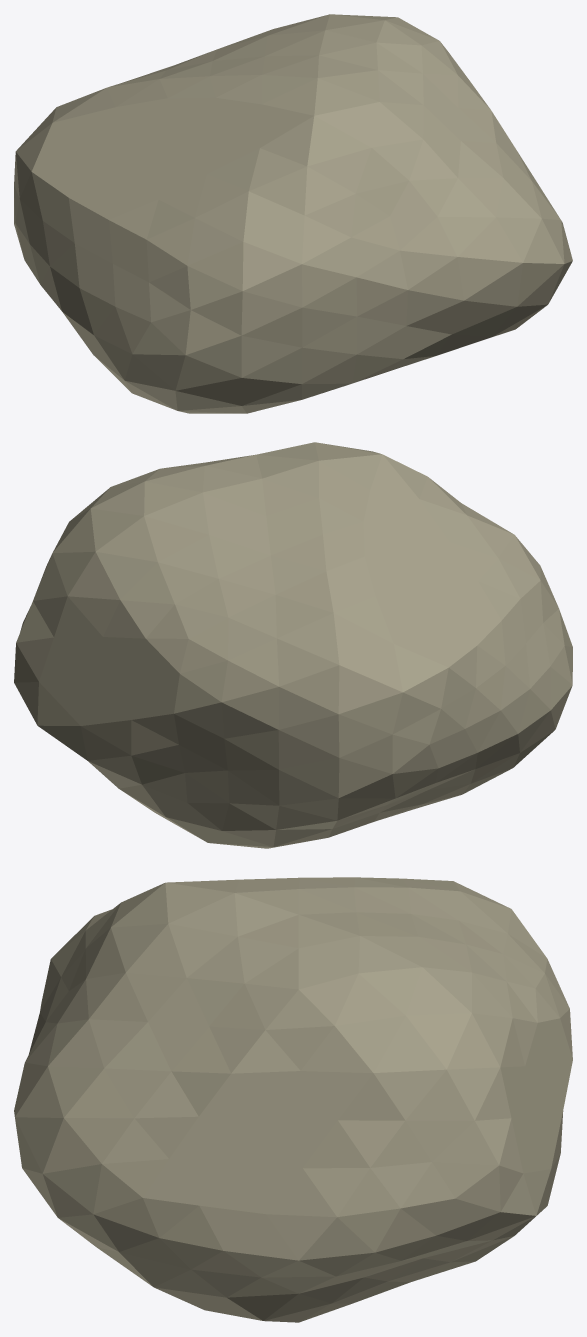
Rendered from river-boulder.gltf.
The picture shows the model from 3 angles, top to bottom: view 1: azimuth 30°, elevation 25°; view 2: azimuth 150°, elevation 25°; view 3: azimuth 270°, elevation 25°; orthographic projection. The views are drawn at different scales.
Visible parts, largest first — view 1: river-boulder; view 2: river-boulder; view 3: river-boulder.
Part boxes in pixels (x1,y1,x2,y2): river-boulder: (14, 14, 572, 413); river-boulder: (14, 442, 572, 848); river-boulder: (14, 877, 572, 1322).
Size of the model in its own units: 1.99 by 1.3 by 1.77.
